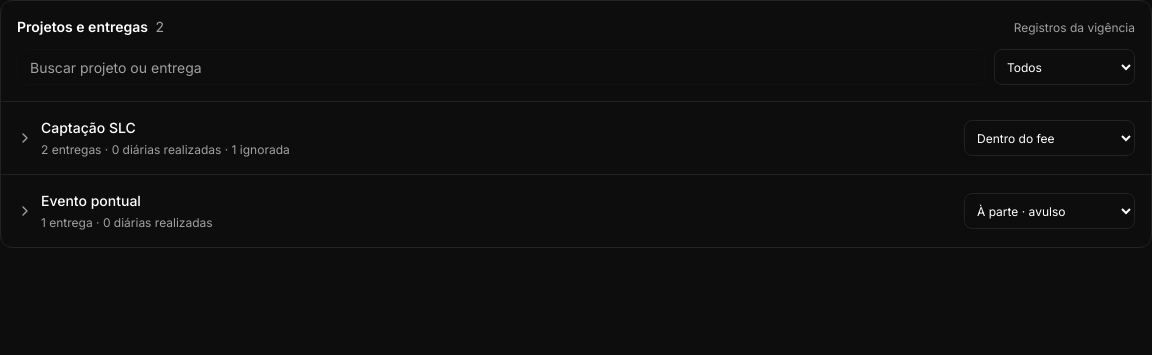
Test case: filtros distinguem ignoradas e à parte
Select "Ignoradas" in the dropdown named "Filtrar entregas do contrato": coordinates (1064, 67) [994,49,1135,85]
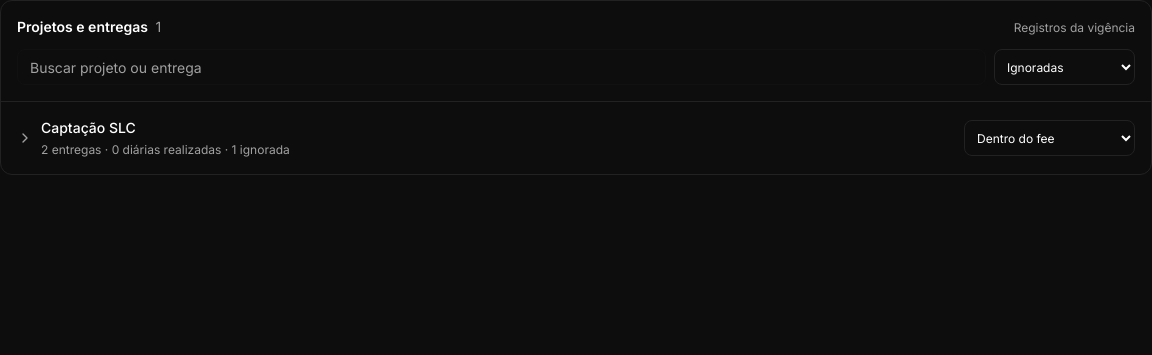
Click the button "Captação SLC 2 entregas · 0 diárias realizadas · 1 ignorada": coordinates (88, 128) [17,118,952,158]
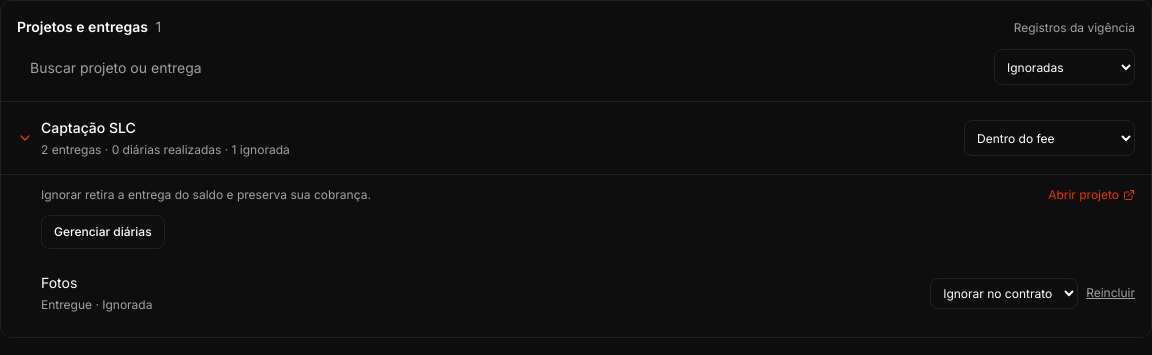
Now the dropdown named "Tipo de Fotos" is shown, box [930,278,1078,308]
Select "À parte" in the dropdown named "Filtrar entregas do contrato": coordinates (1064, 67) [994,49,1135,85]
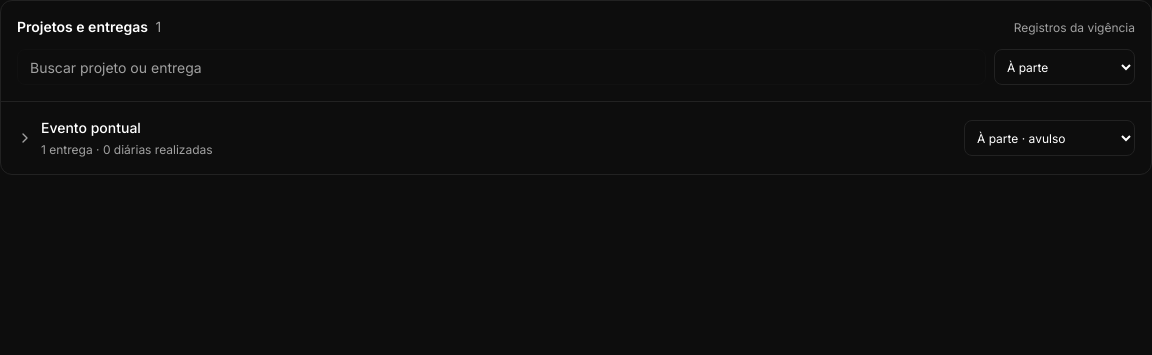
Now the button "Captação SLC" is gone
Now the button "Evento pontual 1 entrega · 0 diárias realizadas" is shown, box [17,118,952,158]
